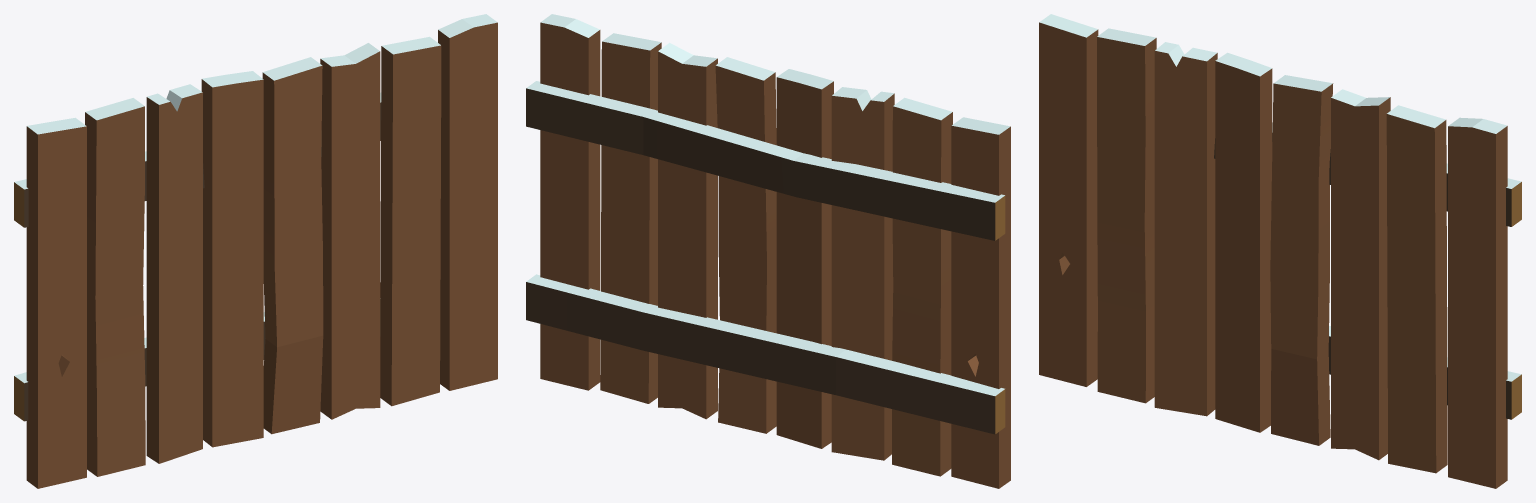
The model's file is props_fence-classic-winter.fbx.
3 renders of one model, left to right at view 1: azimuth 30°, elevation 25°; view 2: azimuth 150°, elevation 25°; view 3: azimuth 330°, elevation 25°, orthographic.
Visible parts, largest first — view 1: props_fence_classic_winter; view 2: props_fence_classic_winter; view 3: props_fence_classic_winter.
Boxes of the visible parts, x1=… form: props_fence_classic_winter: x1=14, y1=14, x2=497, y2=488; props_fence_classic_winter: x1=526, y1=14, x2=1010, y2=488; props_fence_classic_winter: x1=1039, y1=14, x2=1521, y2=488.
Bounding box in the file's own units: 200 × 147 × 19.22.
